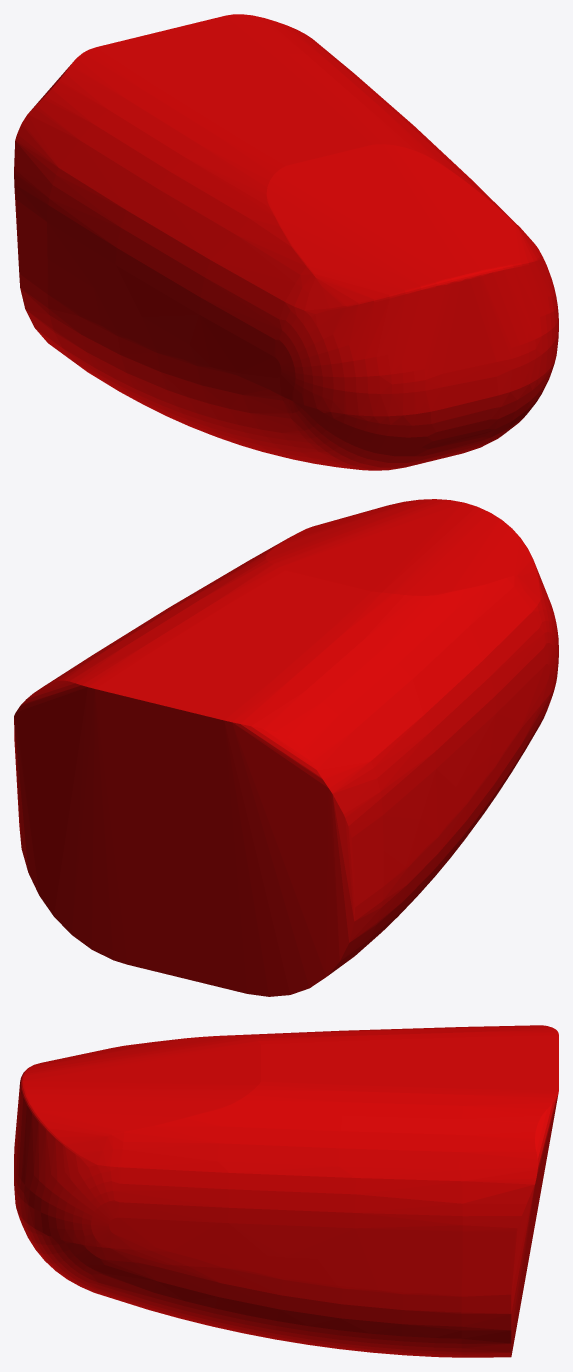
File: f_distal_pst_cvx.obj
The picture shows the model from 3 angles, top to bottom: view 1: azimuth 30°, elevation 25°; view 2: azimuth 150°, elevation 25°; view 3: azimuth 270°, elevation 25°; orthographic projection. The views are drawn at different scales.
Size of the model in its own units: 17.14 by 14.34 by 27.33.
